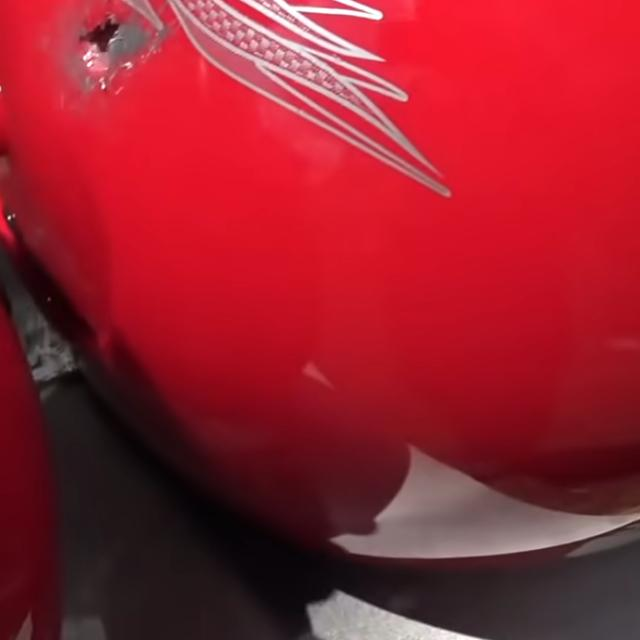bullets: (59, 0, 141, 84)
